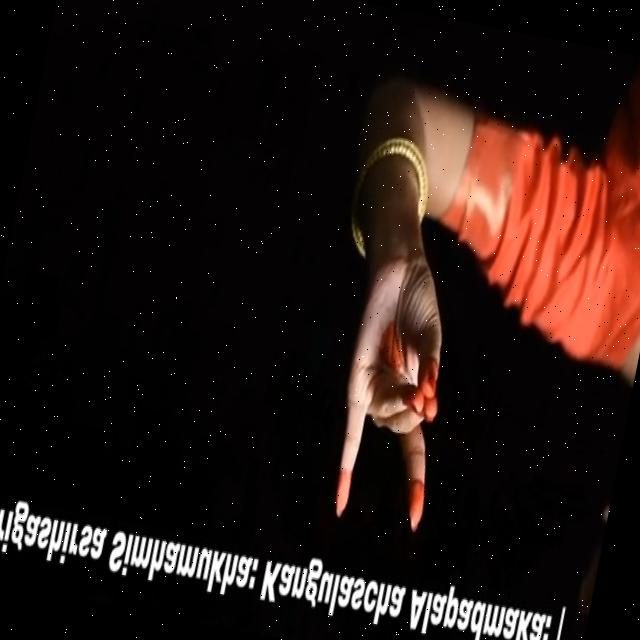Simhamukha: (291, 232, 504, 563)
bangle: (330, 104, 457, 244)
text: (0, 479, 578, 640)
